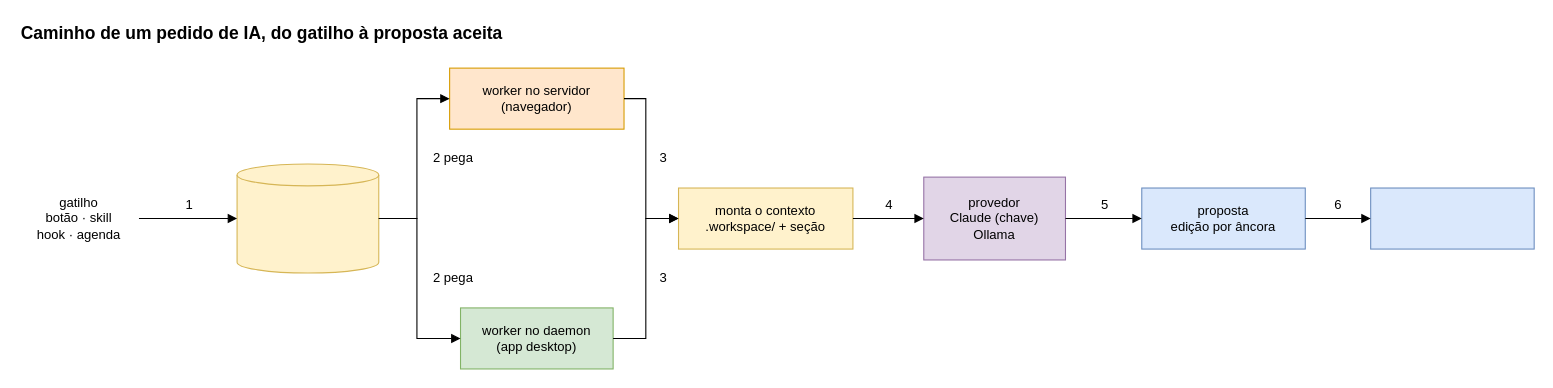
Some shapes in this 1553 by 388 pixel diagram are drawn without their labels. Here are the shapes that lost their labels. From the top down, the box of each, then its label:
(236, 163, 379, 273): fila de jobs sincroniza precisa: [...]
(1370, 187, 1534, 249): aceitar / recusar no editor
